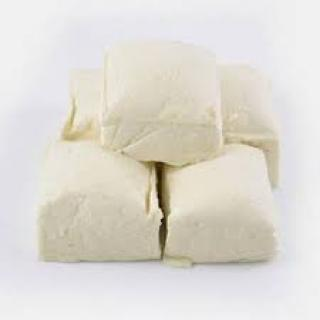Tahu: (26, 22, 297, 290)
